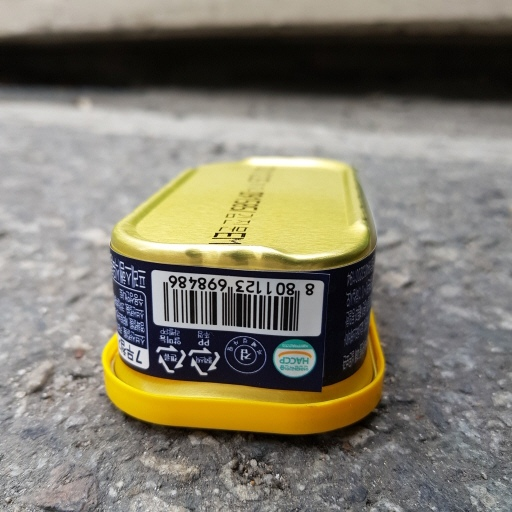Metal_2: (103, 149, 389, 437)
